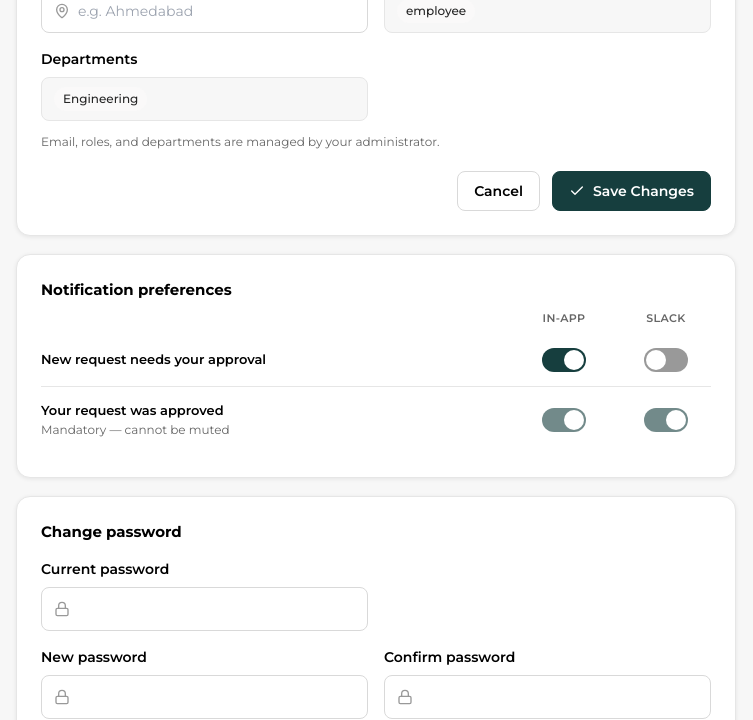
Test case: surfaces an error when toggling a notification preference fails
The image size is (753, 720).
(page scrolled)
Expected: the text "New request needs your approval" is shown, 41,351 -> 266,367
Click the 1st switch: point(564, 360) 542,348 -> 586,372
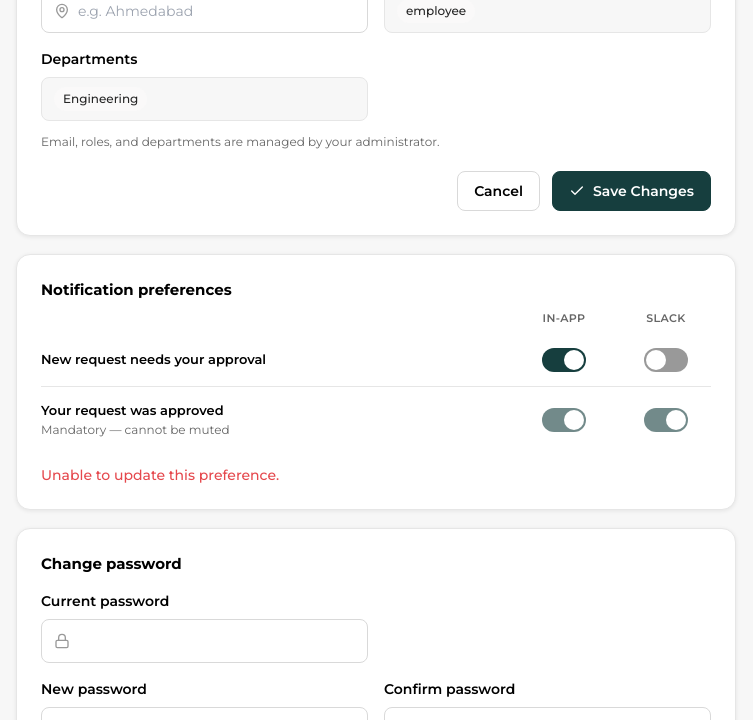
Expected: the text "Unable to update this preference." is shown, 41,466 -> 279,484
